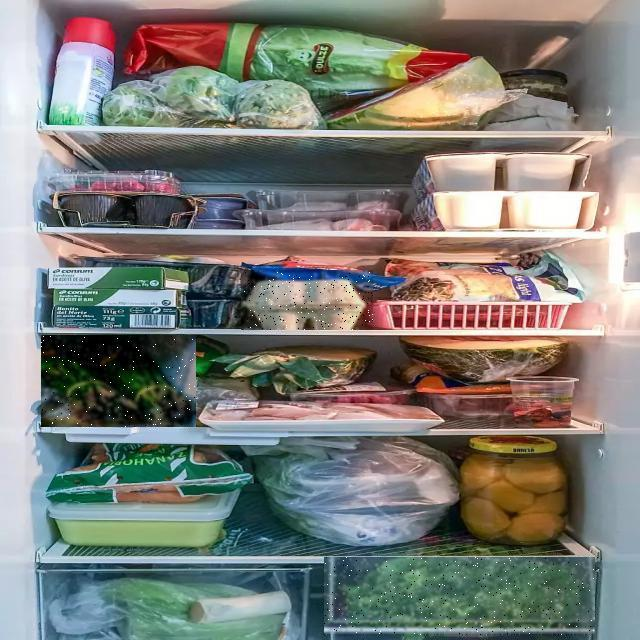egg: (55, 165, 428, 495)
